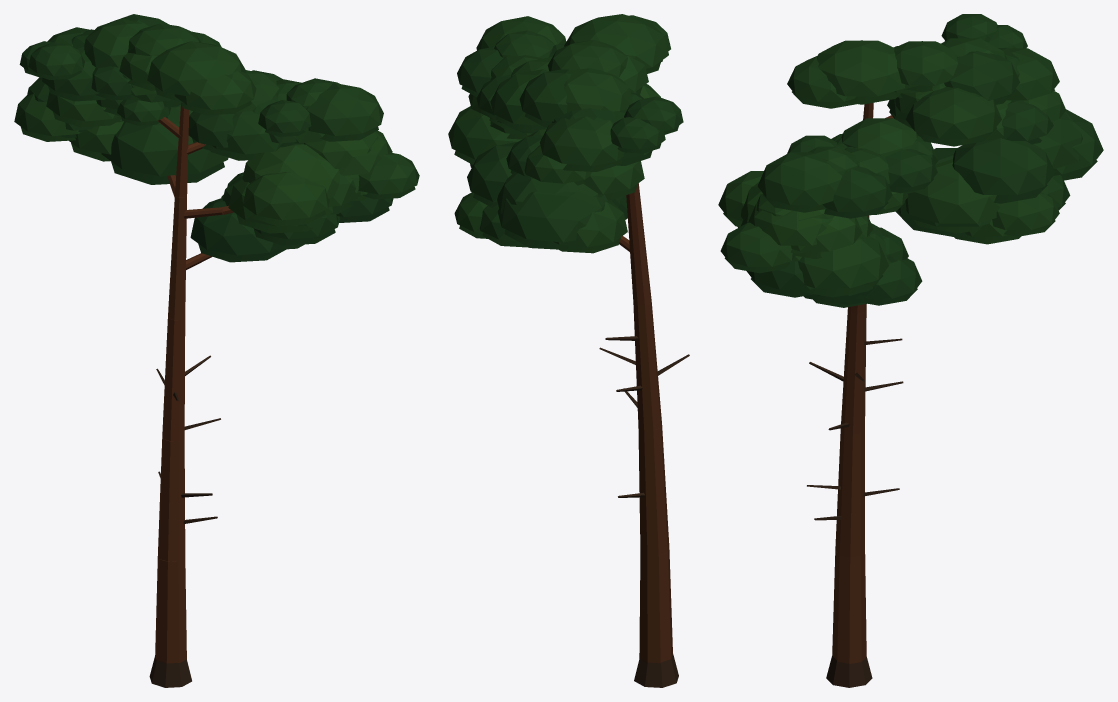
Rendered from tree_pine_3.glb.
3 renders of one model, left to right at view 1: azimuth 30°, elevation 25°; view 2: azimuth 150°, elevation 25°; view 3: azimuth 270°, elevation 25°, orthographic. The views are drawn at different scales.
Parts seen in each view (by area): view 1: leaf, wood; view 2: leaf, wood; view 3: leaf, wood.
Part boxes in pixels (<box>): leaf: <box>14,14,419,262</box>; wood: <box>149,103,233,687</box>; leaf: <box>448,14,683,253</box>; wood: <box>599,183,689,687</box>; leaf: <box>718,14,1103,307</box>; wood: <box>807,103,903,687</box>.
Size of the model in its own units: 6.14 by 12.97 by 6.99.
